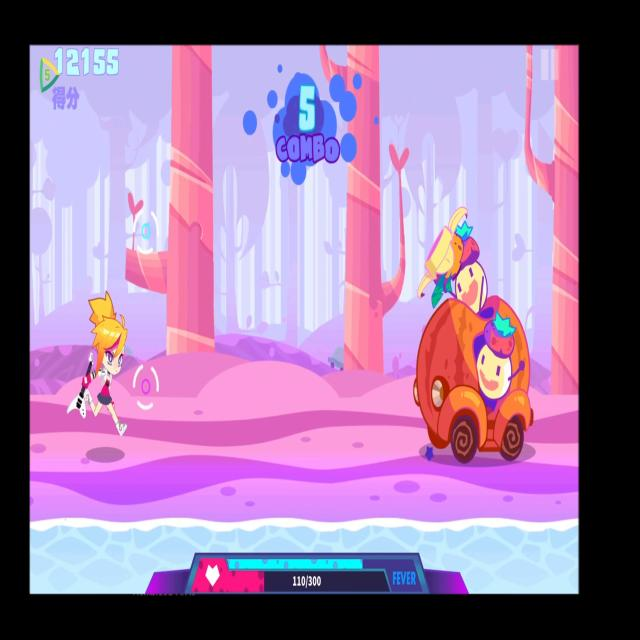cheboss: (401, 204, 543, 475)
